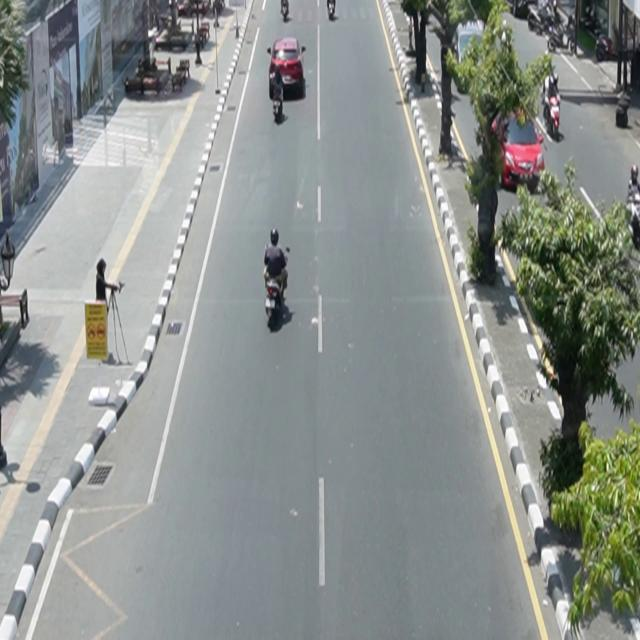car: (492, 107, 546, 194), (268, 37, 307, 101)
